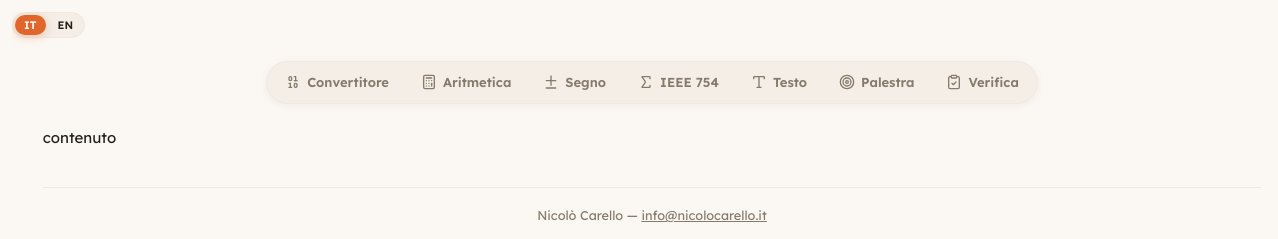
Test: navbar strumenti › il toggle lingua nell’header cambia lingua
This screenshot has width=1278, height=239.
Expected: the link "Convertitore" is shown, x1=285 y1=74 x2=389 y2=90
Click the button "EN" at (65, 25), box x1=48 y1=15 x2=82 y2=35
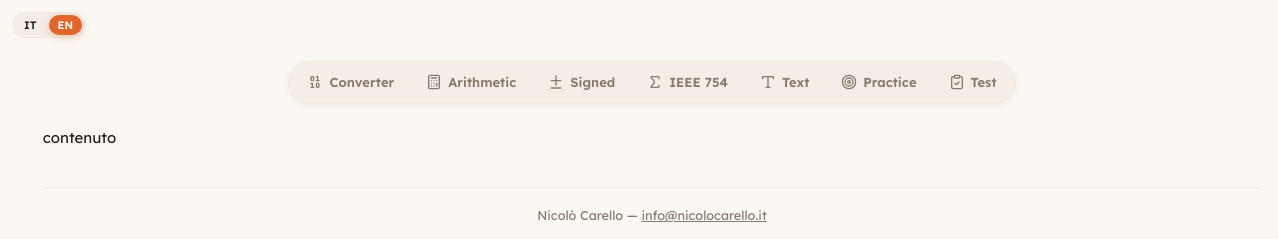
Expected: the link "Converter" is shown, x1=308 y1=74 x2=394 y2=90
